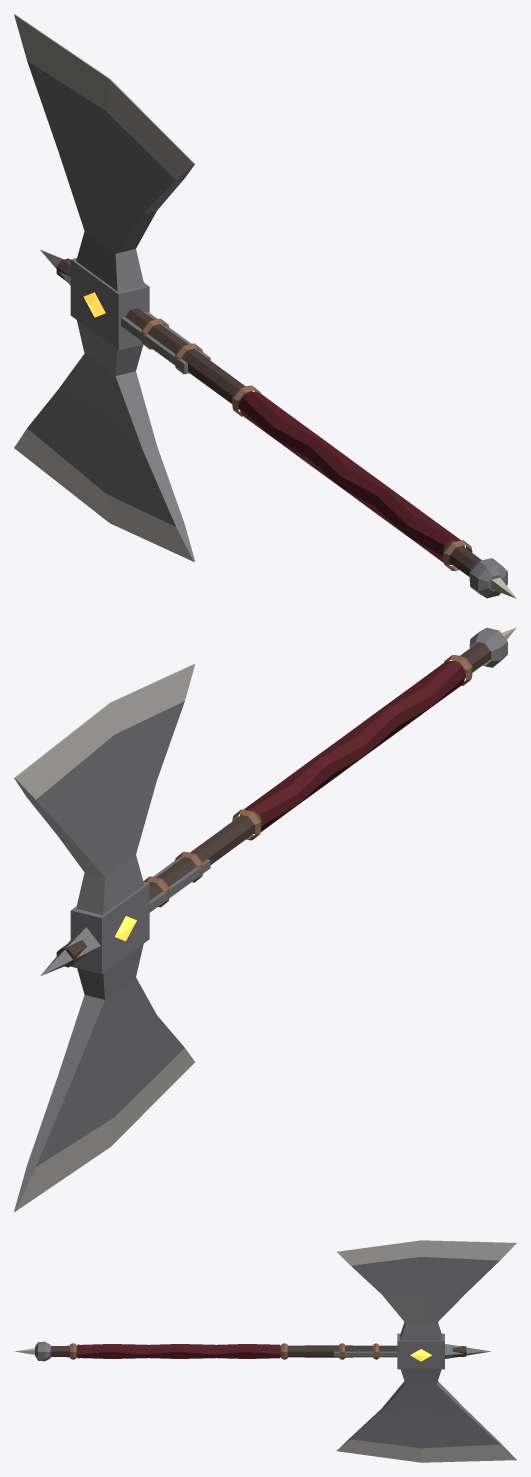
Rendered from held-great-axe.glb.
3 renders of one model, top to bottom at view 1: azimuth 30°, elevation 25°; view 2: azimuth 150°, elevation 25°; view 3: azimuth 270°, elevation 25°, orthographic. The views are drawn at different scales.
Parts seen in each view (by area): view 1: blade_upper, blade_lower, grip_leather, head_socket, haft, pommel_cap, langet_l; view 2: blade_upper, blade_lower, grip_leather, head_socket, haft, pommel_cap, head_spike, langet_l; view 3: blade_upper, blade_lower, grip_leather, haft, head_socket, langet_r, head_spike, pommel_cap.
Part boxes in pixels (<box>): blade_upper: <box>14,14,194,291</box>; blade_lower: <box>14,320,194,561</box>; grip_leather: <box>238,391,464,565</box>; head_socket: <box>70,258,149,350</box>; haft: <box>56,258,481,576</box>; pommel_cap: <box>469,558,507,598</box>; langet_l: <box>121,317,187,372</box>; blade_upper: <box>14,664,194,914</box>; blade_lower: <box>14,944,194,1211</box>; grip_leather: <box>240,660,465,834</box>; head_socket: <box>70,881,149,973</box>; haft: <box>56,642,491,967</box>; pommel_cap: <box>469,627,507,667</box>; head_spike: <box>40,927,100,975</box>; langet_l: <box>149,859,210,912</box>; blade_upper: <box>337,1240,516,1340</box>; blade_lower: <box>337,1369,516,1462</box>; grip_leather: <box>77,1344,280,1358</box>; haft: <box>50,1345,466,1357</box>; head_socket: <box>397,1333,444,1369</box>; langet_r: <box>334,1351,397,1356</box>; head_spike: <box>445,1344,491,1358</box>; pommel_cap: <box>35,1341,50,1361</box>.
Size of what is drawn, in the model's own units: 0.076 by 0.87 by 1.79.
